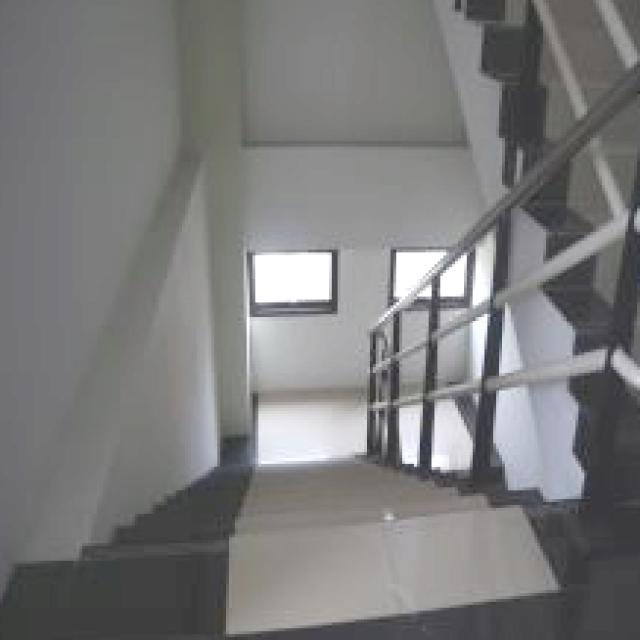downstair: (127, 450, 503, 640)
